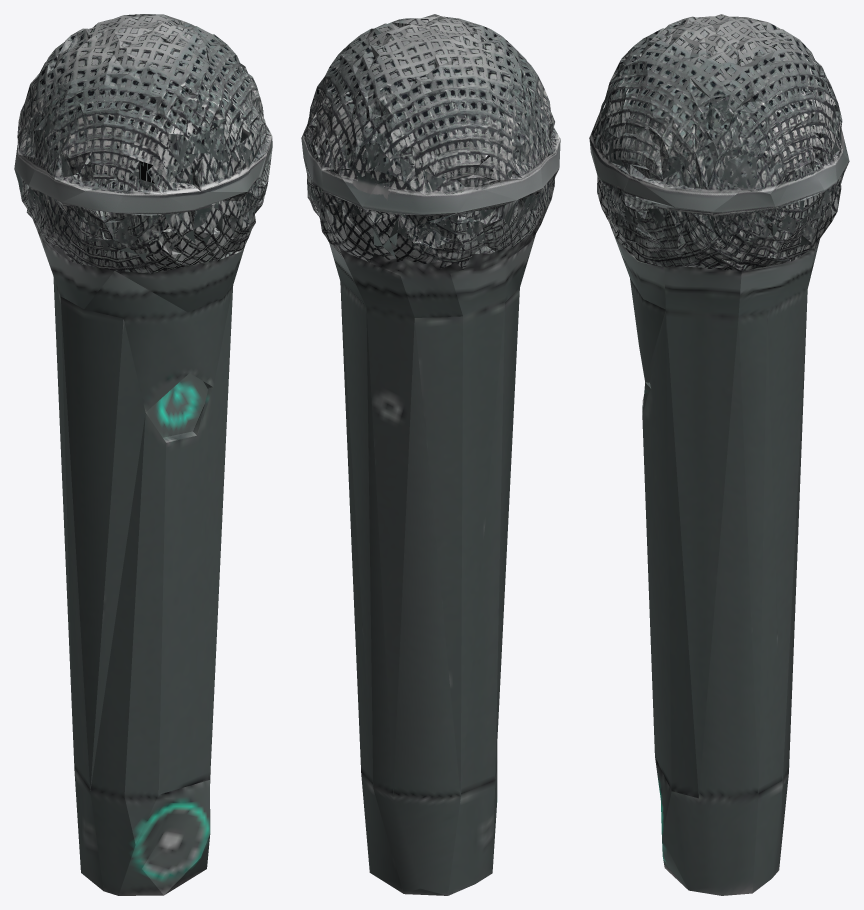
The model's file is wireless_mic.glb.
3 views of the same model, side by side, from view 1: azimuth 30°, elevation 25°; view 2: azimuth 150°, elevation 25°; view 3: azimuth 270°, elevation 25° (orthographic).
Parts seen in each view (by area): view 1: output_unwrapped; view 2: output_unwrapped; view 3: output_unwrapped.
Part boxes in pixels (x1,y1,x2,y2): output_unwrapped: (14,14,272,895); output_unwrapped: (301,14,560,895); output_unwrapped: (589,14,849,895).
Size of the model in its own units: 0.5318 by 1.9 by 0.5293.
1 material, 1 textured.
